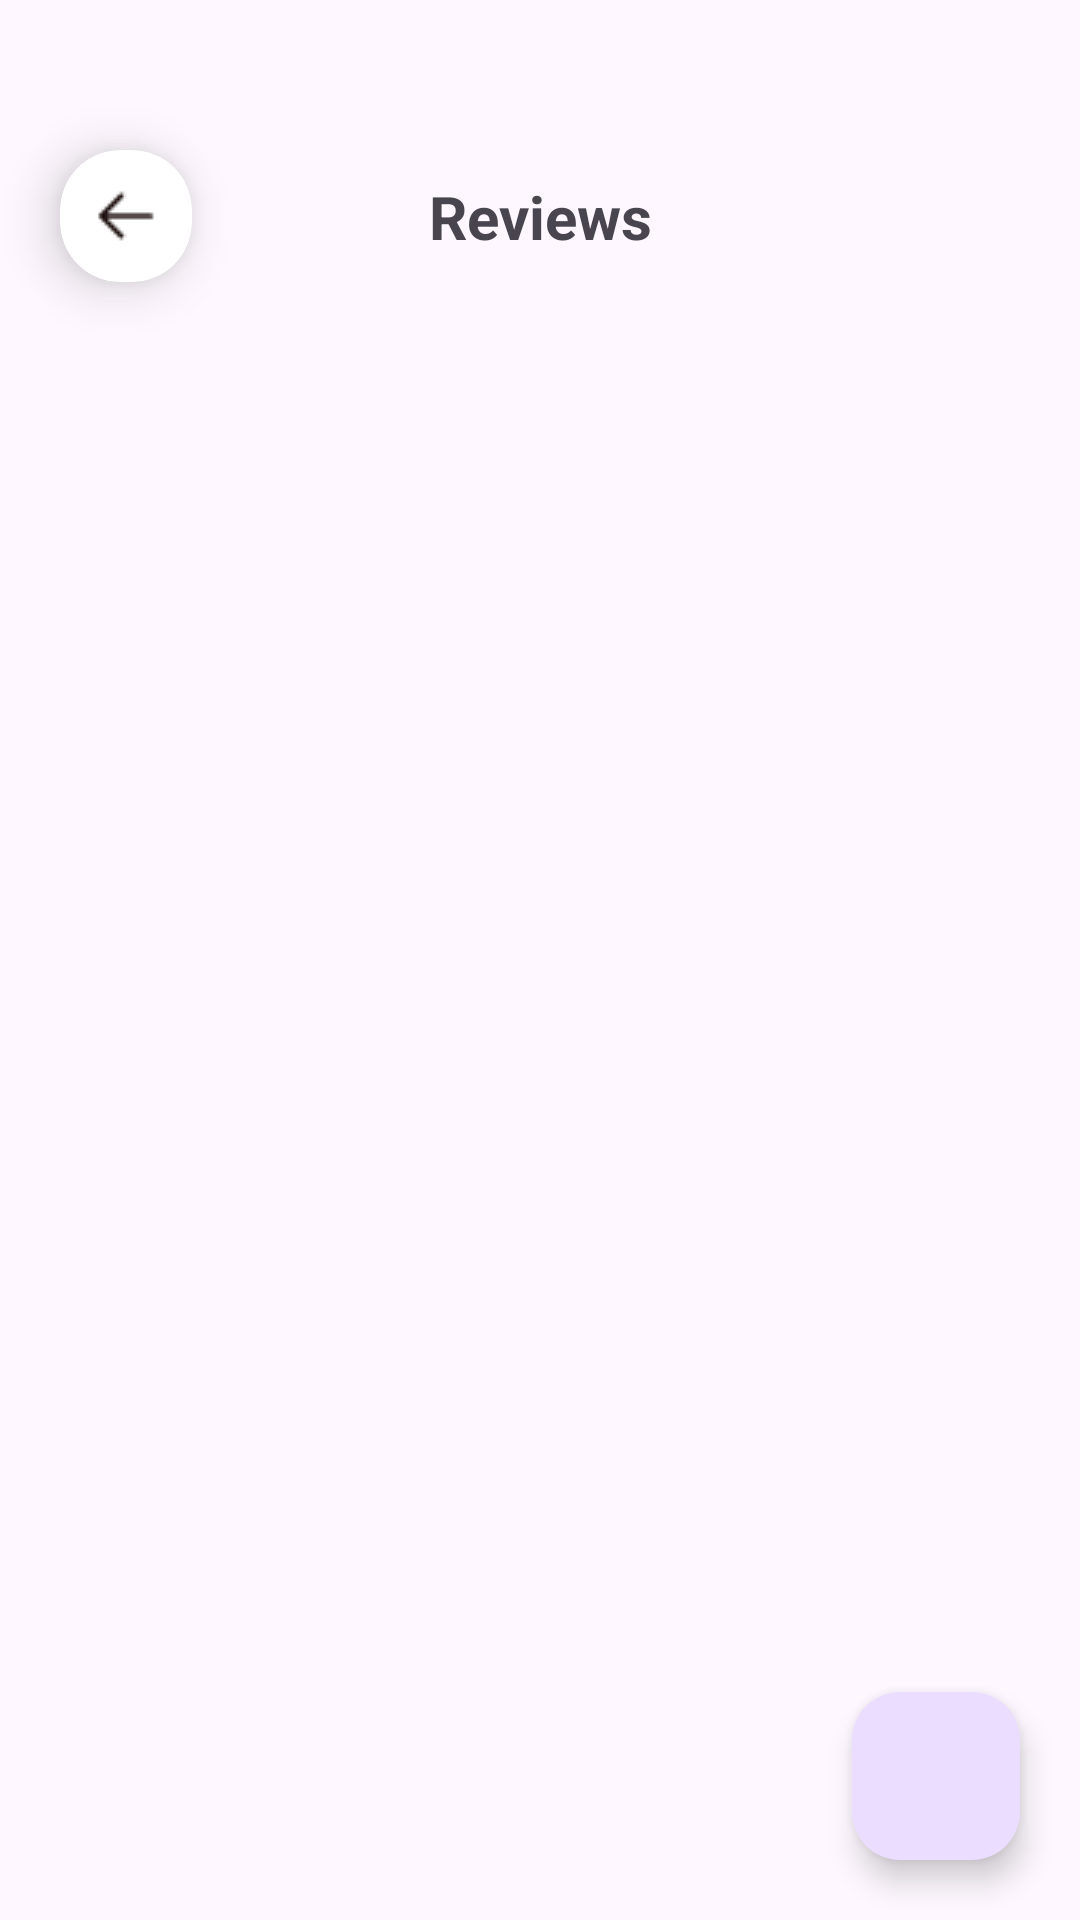

Icons on this 1080px x 1920px Android screen, each with its box as (x1, y1, x2, y2):
back: (98, 191, 154, 241)
